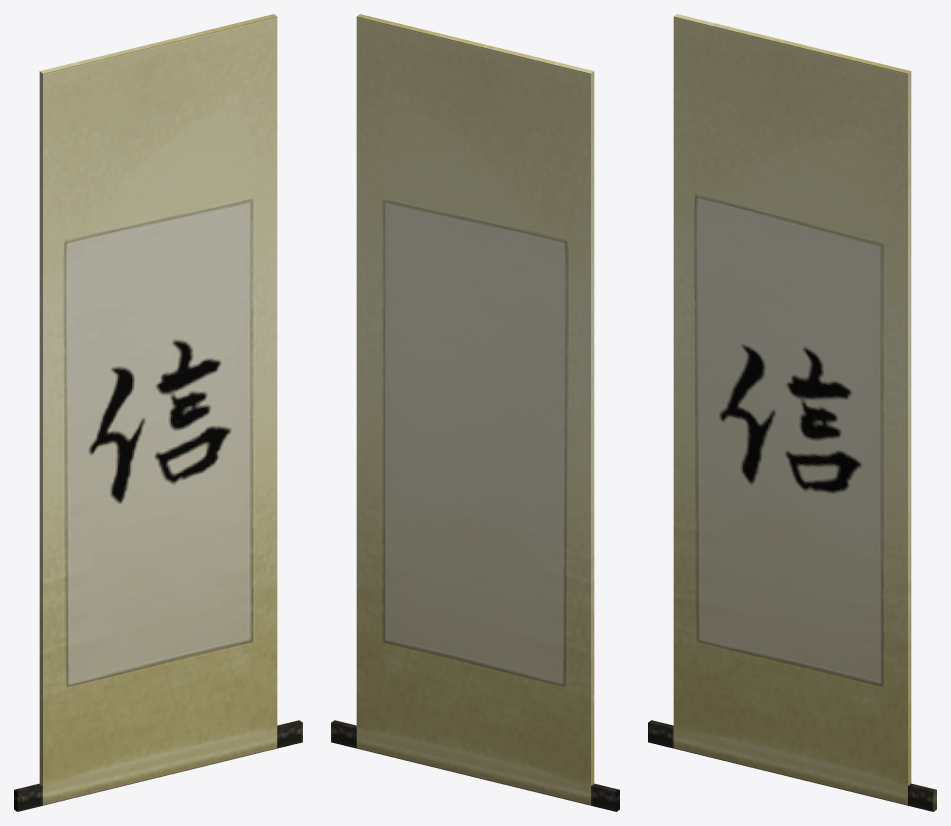
File: scroll_devotion.fbx
The picture shows the model from 3 angles, left to right: view 1: azimuth 30°, elevation 25°; view 2: azimuth 150°, elevation 25°; view 3: azimuth 330°, elevation 25°; orthographic projection.
Visible parts, largest first — view 1: scroll_devotion; view 2: scroll_devotion; view 3: scroll_devotion.
Part boxes in pixels (x1,y1,x2,y2): scroll_devotion: (14, 14, 302, 811); scroll_devotion: (331, 14, 619, 811); scroll_devotion: (648, 14, 936, 811).
Bounding box in the file's own units: 19.65 × 48.14 × 0.4094.
Materials: 1 (1 with a texture image).
